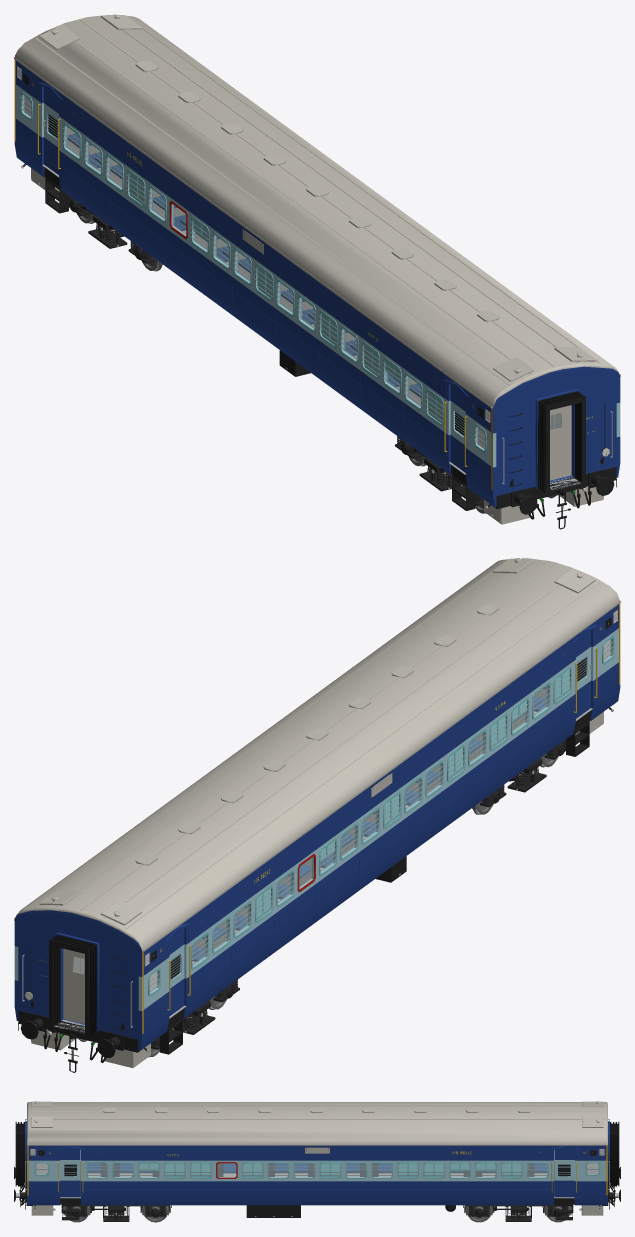
The model's file is icf-blue.glb.
3 views of the same model, one above another, from view 1: azimuth 30°, elevation 25°; view 2: azimuth 150°, elevation 25°; view 3: azimuth 270°, elevation 25° (orthographic). The views are drawn at different scales.
Visible parts, largest first — view 1: ICF_WGSCN_Body_Sides, GangwayDoor_A; view 2: ICF_WGSCN_Body_Sides, GangwayDoor_A; view 3: ICF_WGSCN_Body_Sides, GangwayDoor_A.
Boxes of the visible parts, x1,y1,x2,y2 form: ICF_WGSCN_Body_Sides: [14, 14, 620, 529]; GangwayDoor_A: [24, 96, 560, 449]; ICF_WGSCN_Body_Sides: [14, 558, 620, 1072]; GangwayDoor_A: [74, 639, 610, 992]; ICF_WGSCN_Body_Sides: [14, 1101, 620, 1222]; GangwayDoor_A: [36, 1163, 598, 1176].
Bounding box in the file's own units: 3.37 × 4.12 × 22.04.
3 materials, 3 textured.
